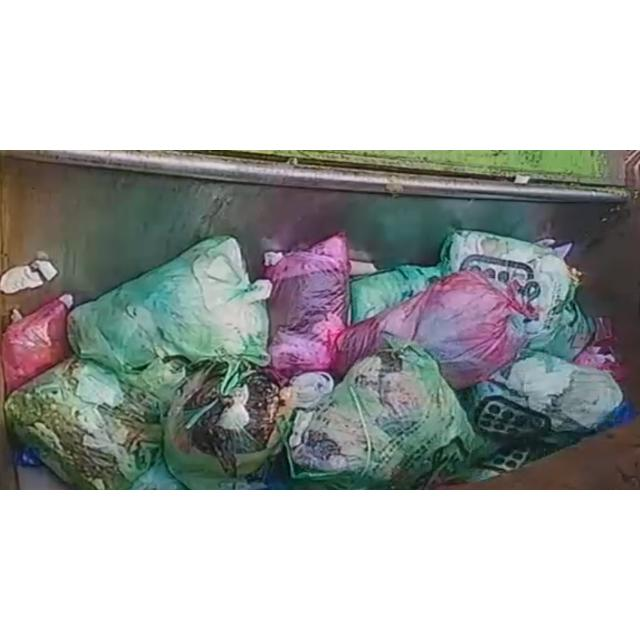general_trashbag: (68, 236, 271, 372), (289, 344, 480, 488), (6, 358, 186, 489), (164, 358, 288, 489), (441, 230, 574, 349), (474, 352, 622, 437), (350, 265, 445, 323)
other_trashbag: (330, 271, 536, 389), (265, 232, 350, 379), (1, 296, 71, 394)
